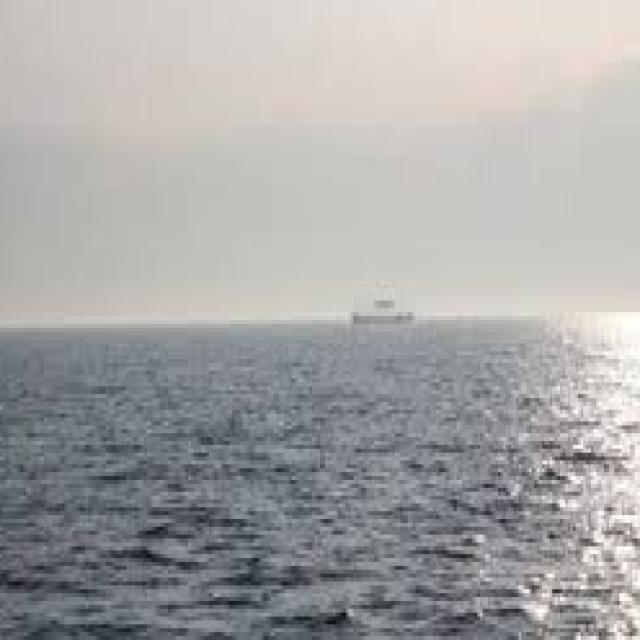fishing boat: (334, 275, 435, 331)
